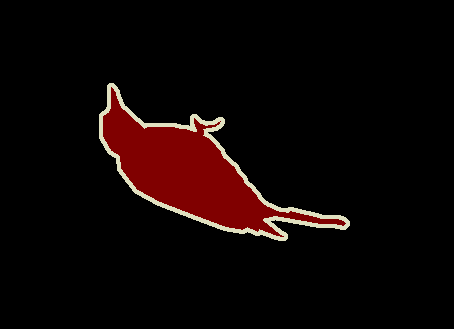bird: (99, 88, 342, 241)
